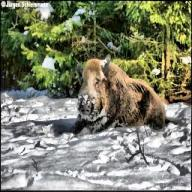boar: (68, 54, 180, 136)
